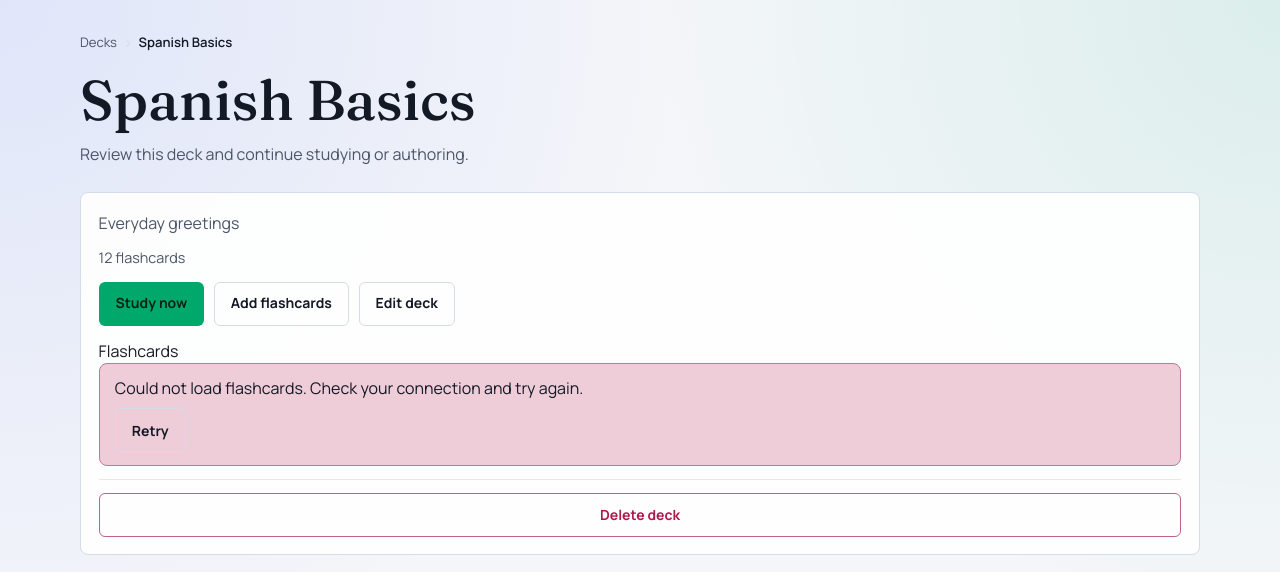
Test case: deck routes › renders flashcard preview error state and retries
Expected: the text "Could not load flashcards" is shown, [115,377,583,399]
What coordinates should you click on to do the following:
click the button "Retry"
I would click on:
 (150, 430)
Its box is [115,408,186,452].
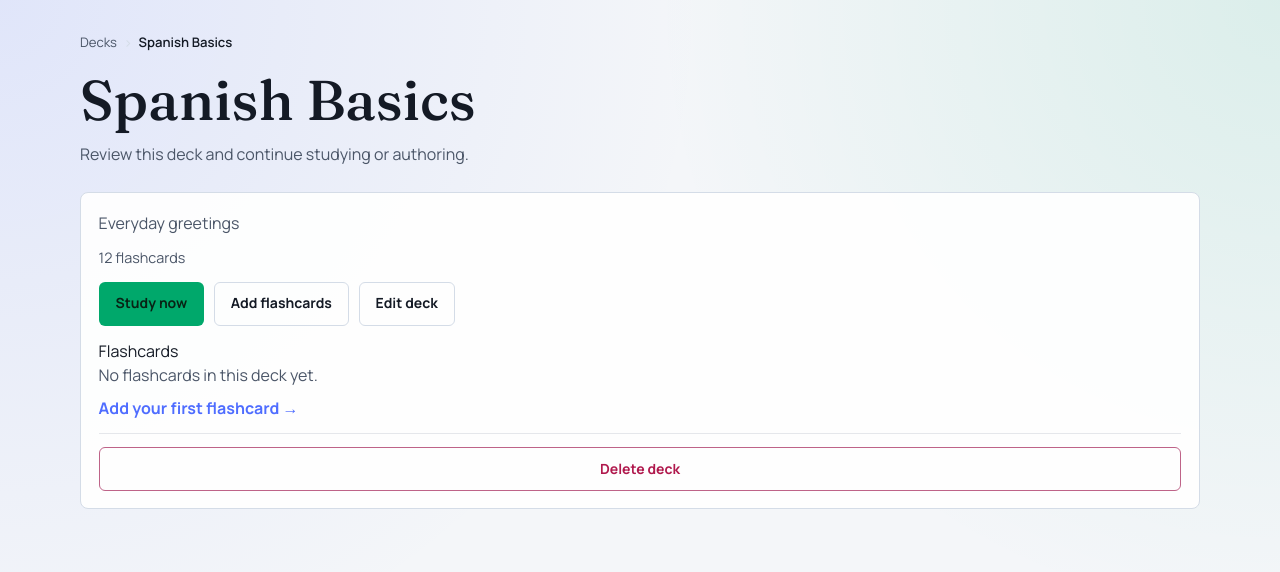
Expected: the text "No flashcards in this deck yet." is shown, [99,364,318,386]
